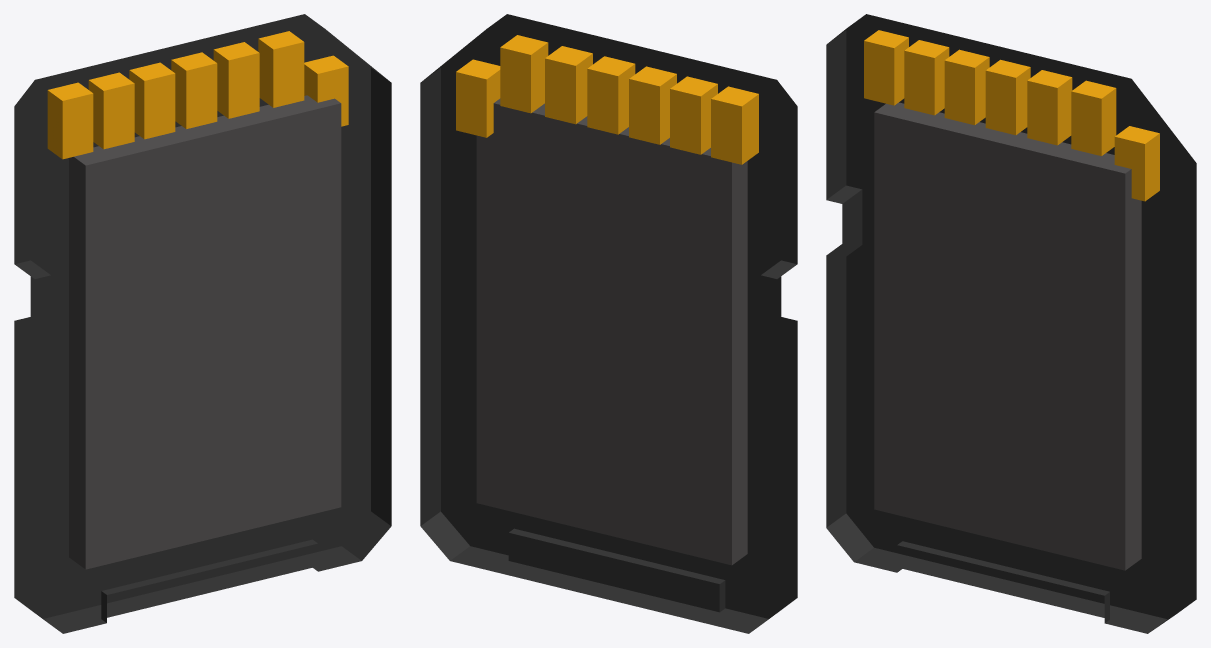
Rendered from MemoryCard.glb.
3 renders of one model, left to right at view 1: azimuth 30°, elevation 25°; view 2: azimuth 150°, elevation 25°; view 3: azimuth 330°, elevation 25°, orthographic.
Visible parts, largest first — view 1: Cube.008, Cube, Cube.006, Cube.005, Cube.004, Cube.001, Cube.002, Cube.003, Cube.007; view 2: Cube.008, Cube, Cube.006, Cube.005, Cube.004, Cube.001, Cube.002, Cube.003, Cube.007; view 3: Cube.008, Cube, Cube.005, Cube.004, Cube.001, Cube.003, Cube.002, Cube.006, Cube.007.
Part boxes in pixels (<box>): Cube.008: <box>69,95,341,569</box>; Cube: <box>14,14,391,633</box>; Cube.006: <box>47,82,93,159</box>; Cube.005: <box>258,31,304,107</box>; Cube.004: <box>213,42,259,118</box>; Cube.001: <box>171,52,217,128</box>; Cube.002: <box>88,72,134,149</box>; Cube.003: <box>129,62,175,139</box>; Cube.007: <box>304,55,348,126</box>; Cube.008: <box>476,98,747,565</box>; Cube: <box>420,14,797,633</box>; Cube.006: <box>711,86,758,164</box>; Cube.005: <box>500,35,548,113</box>; Cube.004: <box>545,46,592,124</box>; Cube.001: <box>587,56,635,134</box>; Cube.002: <box>670,76,717,154</box>; Cube.003: <box>629,66,676,144</box>; Cube.007: <box>456,59,500,137</box>; Cube.008: <box>874,102,1141,570</box>; Cube: <box>826,14,1196,633</box>; Cube.005: <box>1071,80,1116,155</box>; Cube.004: <box>1027,70,1072,145</box>; Cube.001: <box>985,59,1030,135</box>; Cube.003: <box>944,49,989,125</box>; Cube.002: <box>904,40,949,115</box>; Cube.006: <box>864,30,908,105</box>; Cube.007: <box>1114,126,1159,201</box>.
Size of the model in its own units: 1.95 by 2.82 by 0.222.
